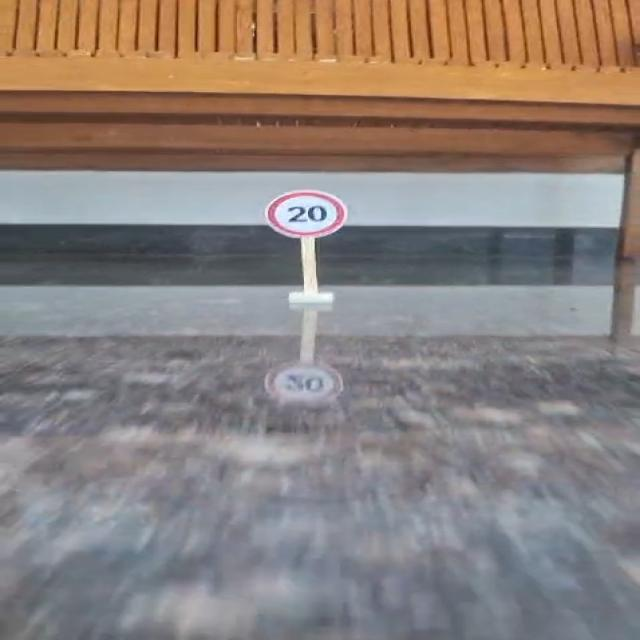Speed20: (259, 184, 350, 242)
